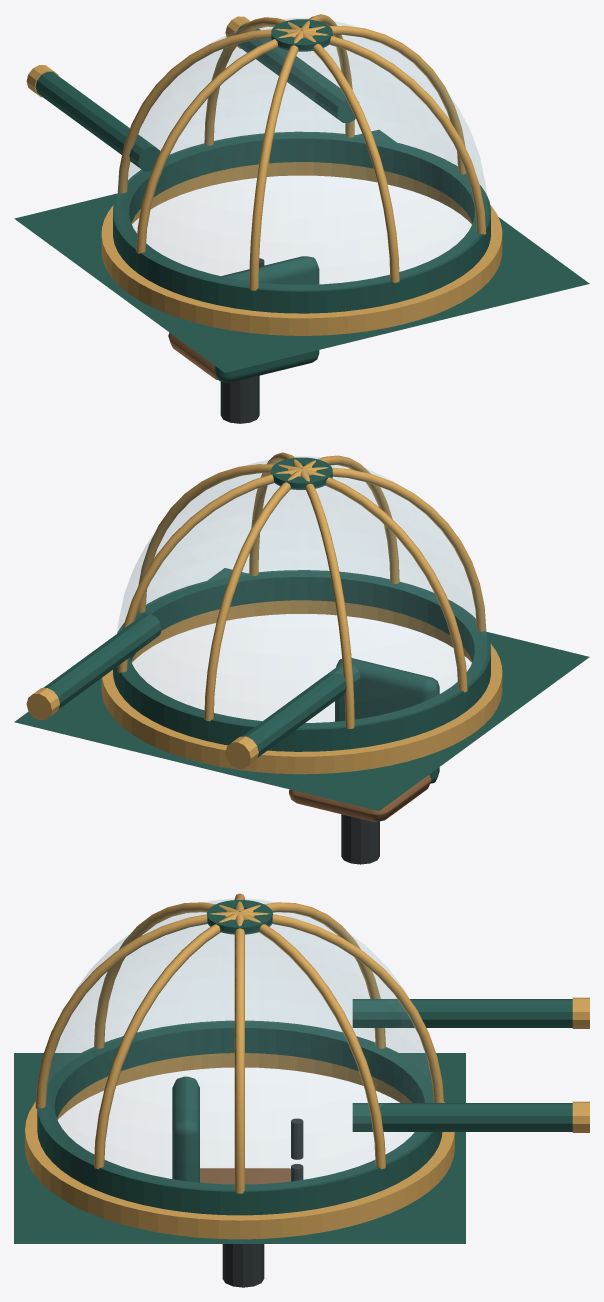
File: dorsal_station.glb
3 renders of one model, top to bottom at view 1: azimuth 30°, elevation 25°; view 2: azimuth 150°, elevation 25°; view 3: azimuth 270°, elevation 25°, orthographic. The views are drawn at different scales.
Visible parts, largest first — view 1: Spruce lacquer.001, Pale glacier glazing, Old brass.001, Spruce lacquer, Old brass, Spruce lacquer.002, Parkerized iron, Oiled fir 0, Old brass.002; view 2: Spruce lacquer.001, Pale glacier glazing, Old brass.001, Spruce lacquer, Old brass, Spruce lacquer.002, Oiled fir 0, Parkerized iron, Old brass.002; view 3: Spruce lacquer.001, Pale glacier glazing, Old brass.001, Spruce lacquer, Old brass, Spruce lacquer.002, Parkerized iron, Oiled fir 0, Old brass.002, Parkerized iron.001.
Part boxes in pixels (<box>): Spruce lacquer.001: <box>113,19,490,382</box>; Pale glacier glazing: <box>117,18,486,203</box>; Old brass.001: <box>117,14,486,290</box>; Spruce lacquer: <box>14,129,589,372</box>; Old brass: <box>101,162,502,335</box>; Spruce lacquer.002: <box>35,23,358,171</box>; Parkerized iron: <box>220,375,259,423</box>; Oiled fir 0: <box>168,332,217,379</box>; Old brass.002: <box>26,16,250,97</box>; Spruce lacquer.001: <box>113,457,490,783</box>; Pale glacier glazing: <box>117,456,486,642</box>; Old brass.001: <box>117,452,486,728</box>; Spruce lacquer: <box>14,568,589,810</box>; Old brass: <box>101,600,502,774</box>; Spruce lacquer.002: <box>43,613,360,757</box>; Oiled fir 0: <box>289,775,431,821</box>; Parkerized iron: <box>341,814,379,864</box>; Old brass.002: <box>26,688,258,768</box>; Spruce lacquer.001: <box>37,900,442,1215</box>; Pale glacier glazing: <box>47,899,432,1084</box>; Old brass.001: <box>35,893,443,1193</box>; Spruce lacquer: <box>14,1053,465,1243</box>; Old brass: <box>25,1053,454,1239</box>; Spruce lacquer.002: <box>352,999,572,1131</box>; Parkerized iron: <box>222,1244,264,1287</box>; Oiled fir 0: <box>200,1168,290,1184</box>; Old brass.002: <box>572,997,589,1132</box>; Parkerized iron.001: <box>291,1118,303,1181</box>.
Size of the model in its own units: 2.61 by 2.54 by 3.32.
